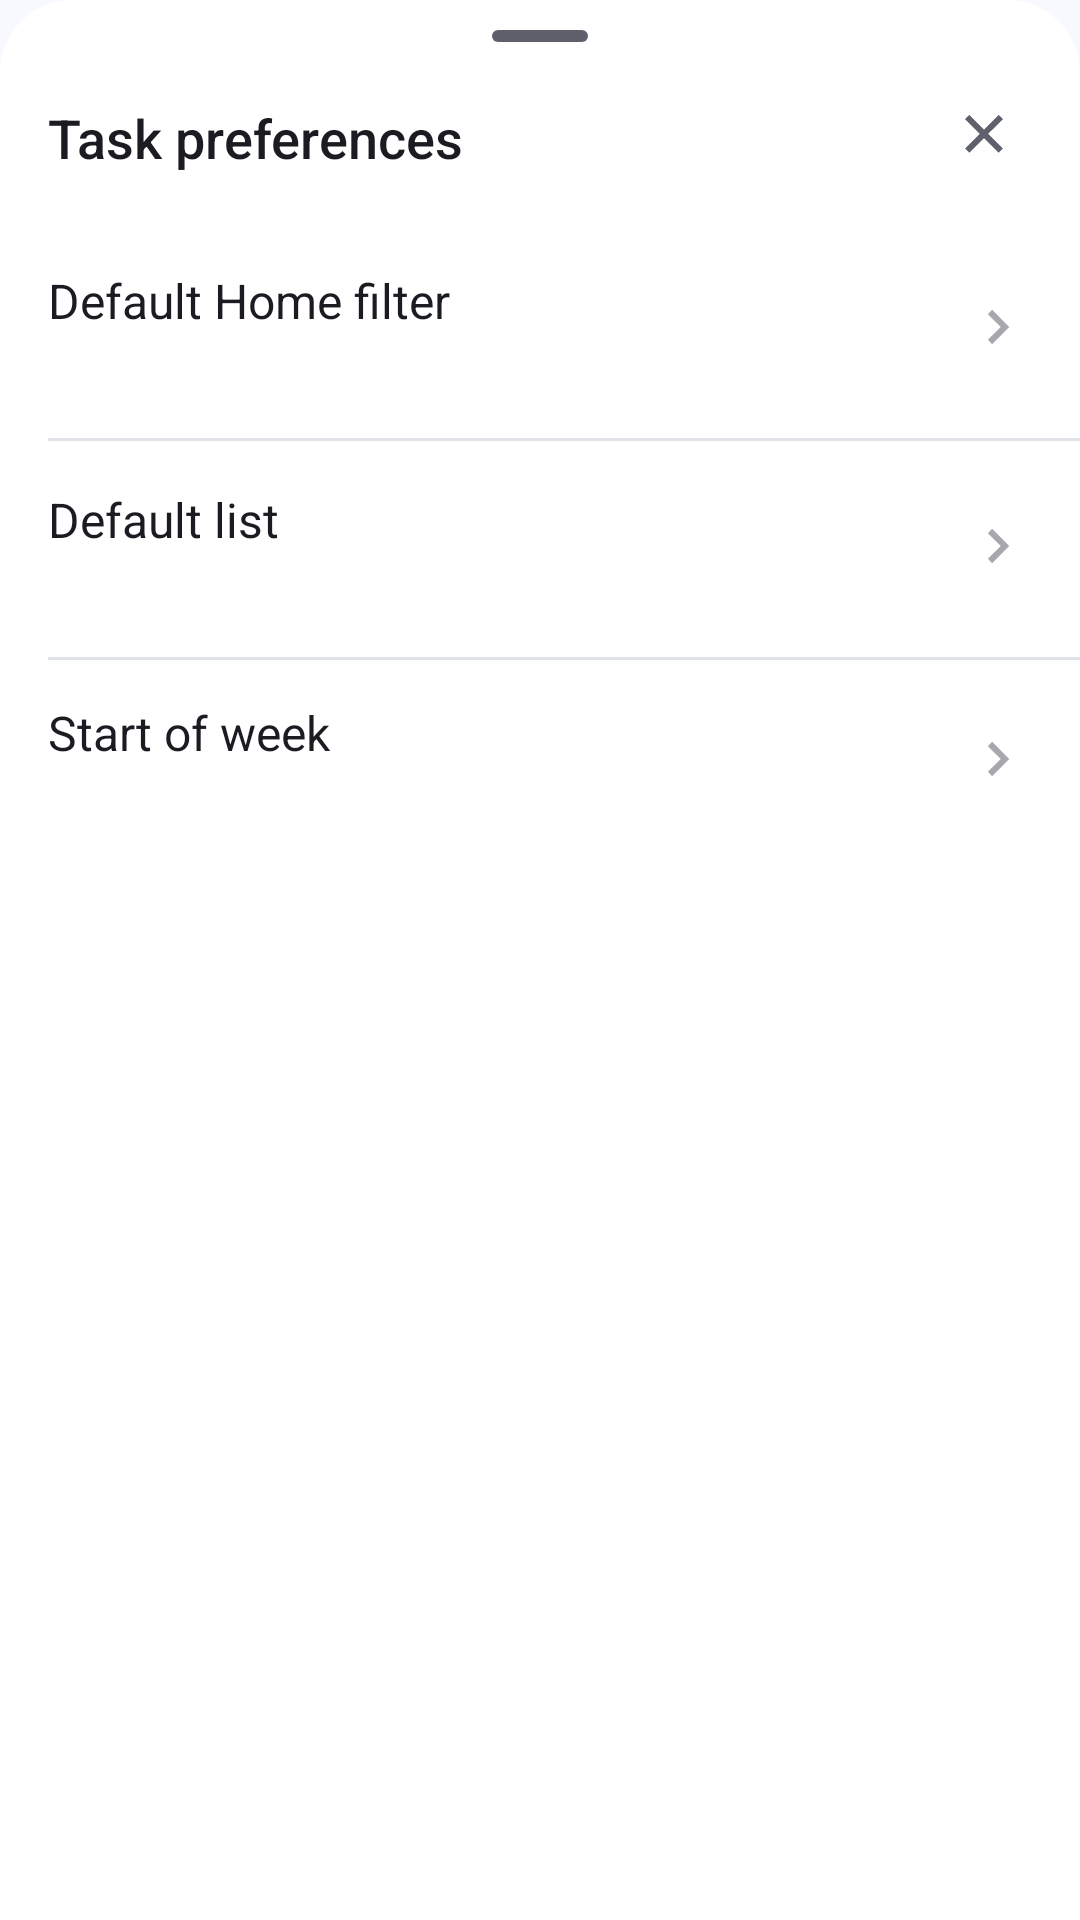

Where to tap for icons on this 1080*1920 app screen, as [x,y]:
chevron right: [998,327], [998,546], [998,759]
